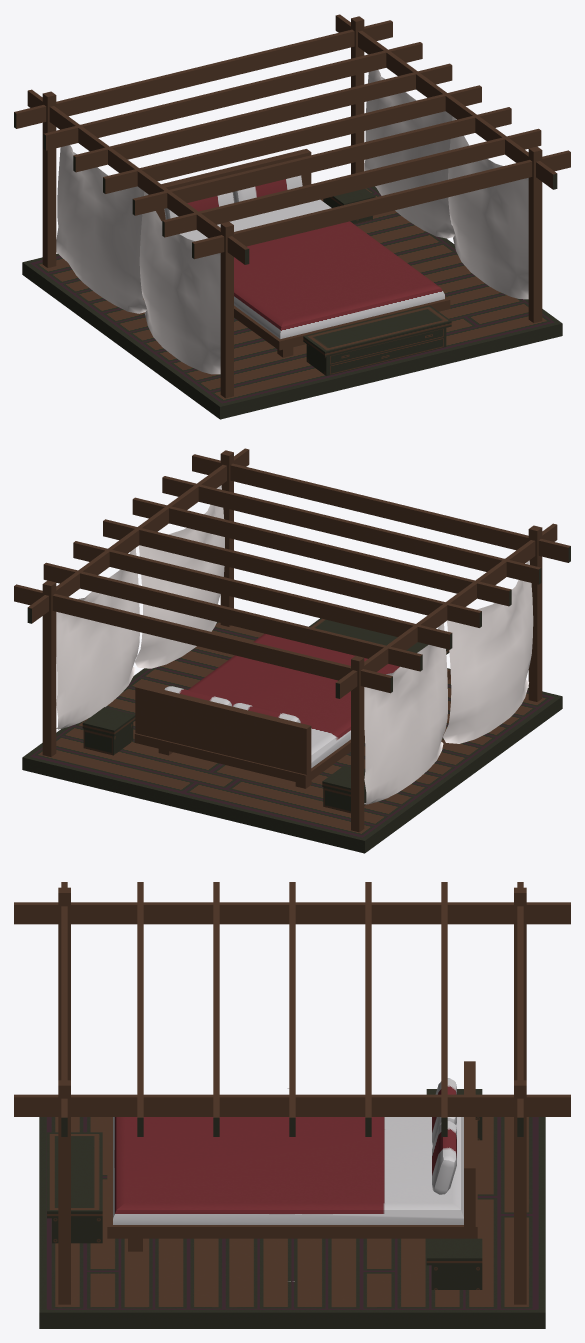
File: 06180ccc-74ef-4e2b-9e80-8542579988f0.glb
3 renders of one model, top to bottom at view 1: azimuth 30°, elevation 25°; view 2: azimuth 150°, elevation 25°; view 3: azimuth 270°, elevation 25°, orthographic. The views are drawn at different scales.
Parts seen in each view (by area): view 1: Cabana_2, Curtains_1, Pillow_1, Pillow_2; view 2: Cabana_2, Curtains_1; view 3: Cabana_2, Pillow_1.
Part boxes in pixels (bbox=[...]): Cabana_2: bbox=[14, 14, 570, 419]; Curtains_1: bbox=[56, 70, 528, 374]; Pillow_1: bbox=[233, 175, 302, 202]; Pillow_2: bbox=[164, 192, 233, 219]; Cabana_2: bbox=[14, 448, 570, 853]; Curtains_1: bbox=[56, 485, 533, 804]; Cabana_2: bbox=[14, 882, 570, 1328]; Pillow_1: bbox=[432, 1120, 456, 1194].
Size of the model in its own units: 1100 by 513 by 1100.
1 material, 1 textured.
